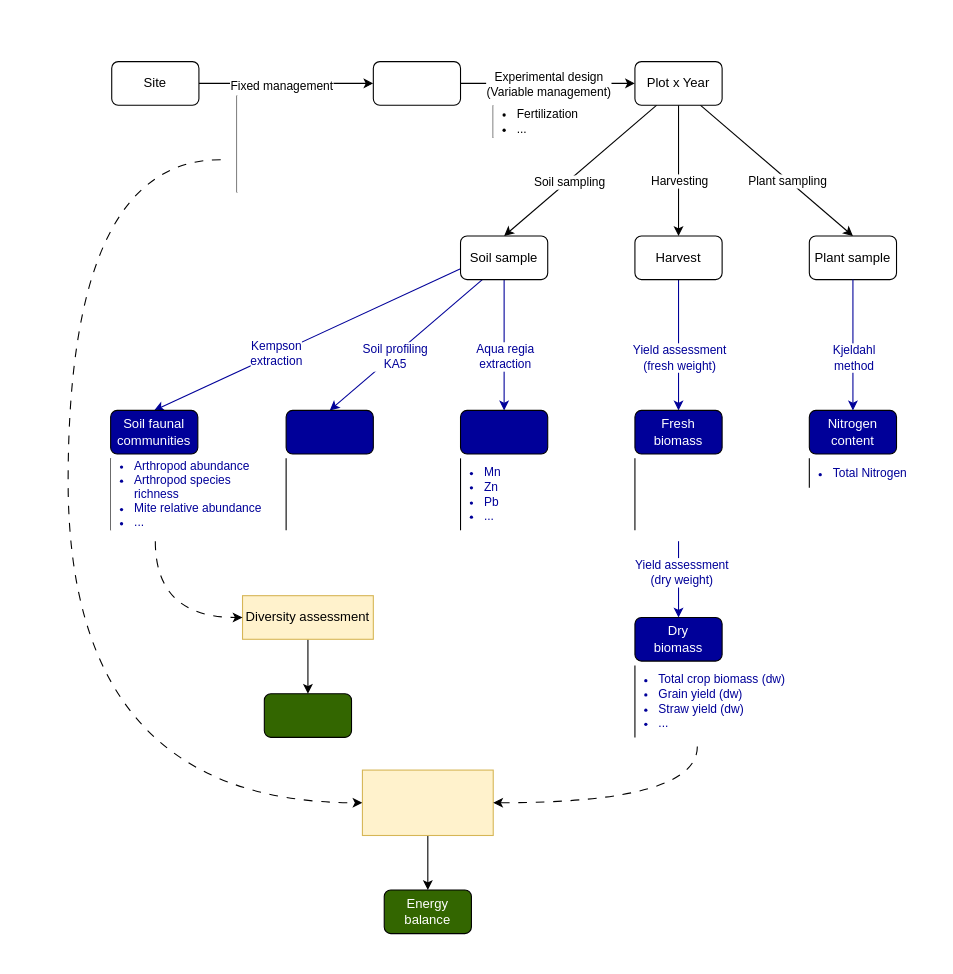
This 953x974 diagram has some shape labels left out. Here are the shapes that lost their labels. From the top down, the box of each, then its label:
(372, 60, 461, 105): Site x Year
(237, 95, 367, 192): Tillage Crop planting Irrigation Pest/weed control Grazing ...
(285, 409, 373, 454): Soil profile
(459, 409, 548, 454): Heavy metal content
(286, 458, 438, 530): Soil texture Soil moisture Carbonate content ...
(634, 458, 787, 530): Total crop biomass (fw) Grain yield (fw) Straw yield (fw) ...
(263, 693, 352, 737): Diveristy metrics
(361, 769, 493, 835): Resource use efficiency
